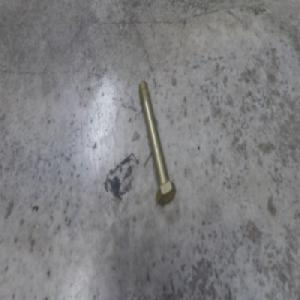Bolt: (138, 78, 176, 202)
